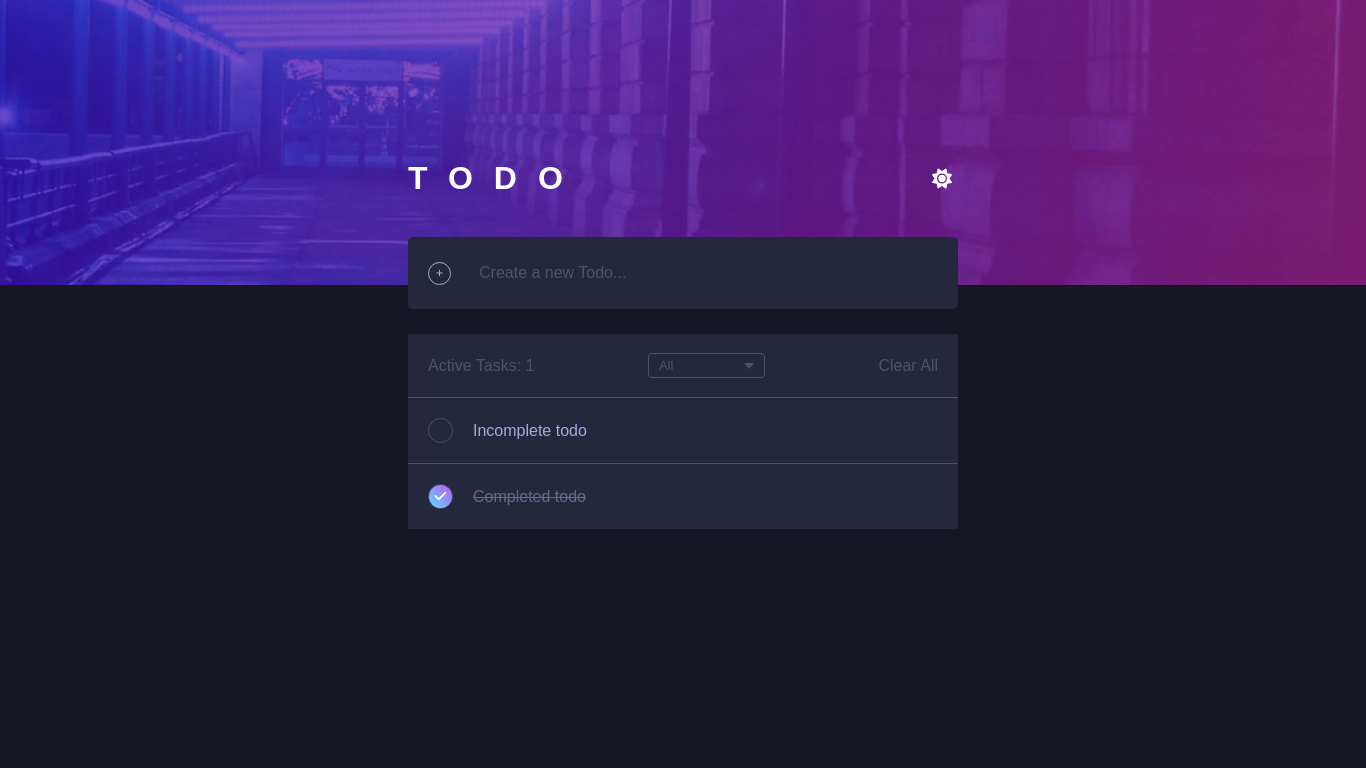
Test: filter › shows only incomplete todos when filter is "uncompleted"
Select "Uncompleted" in the dropdown at (706, 366), box [648,353,765,378]
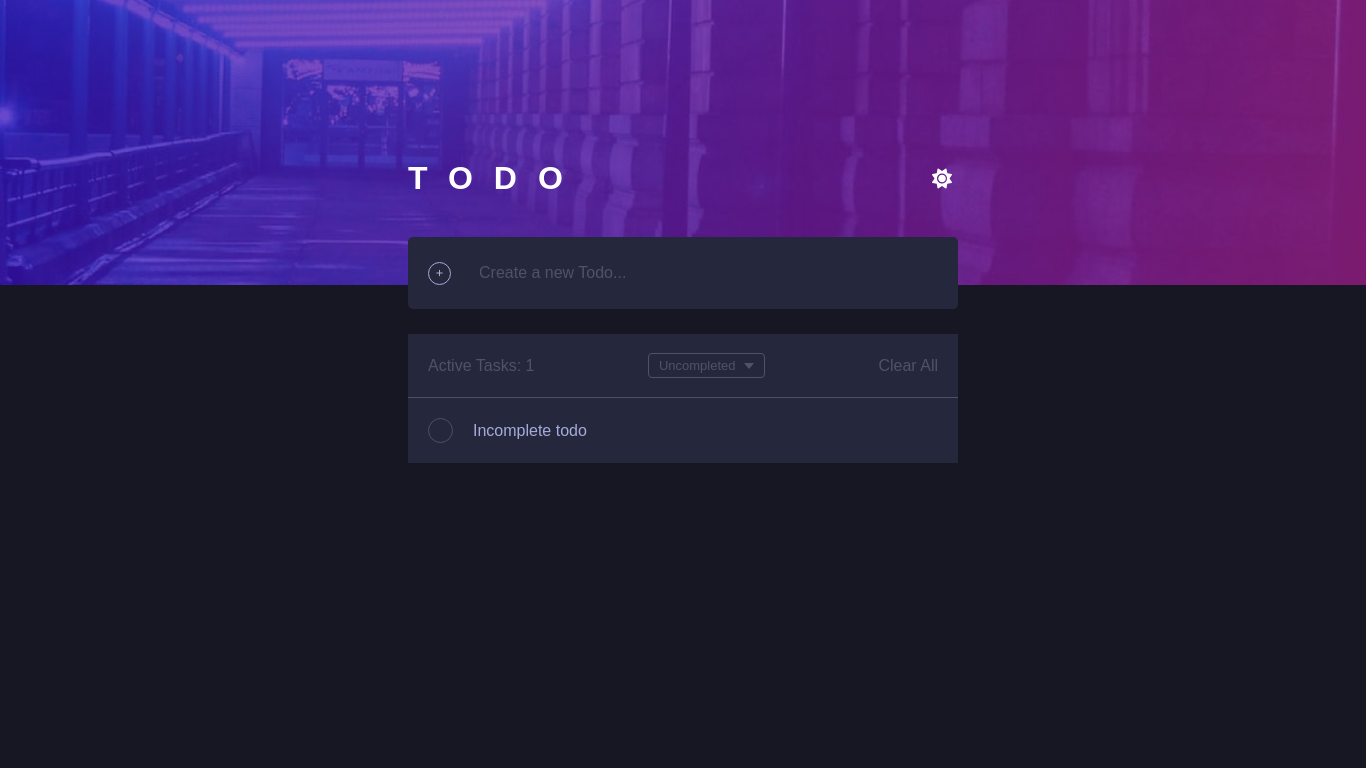
Check: the text "Incomplete todo" is shown, box [473,422,587,438]
Check: the text "Completed todo" is gone
